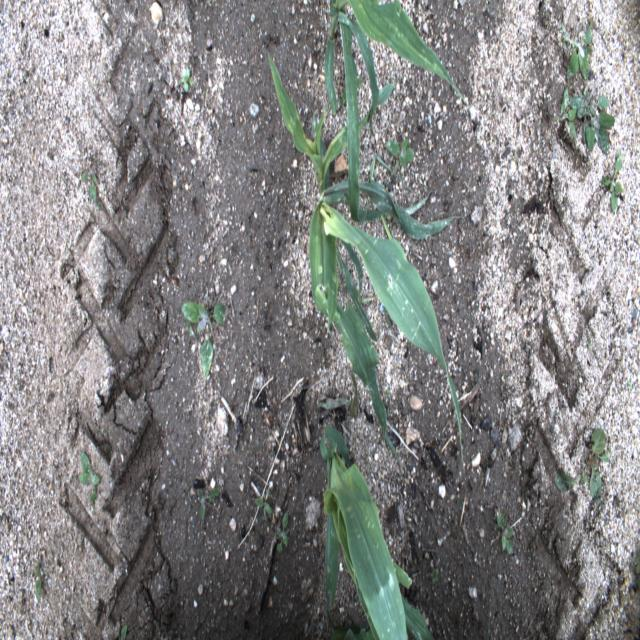crop: (268, 50, 464, 481), (324, 0, 469, 223), (320, 423, 434, 640), (329, 619, 376, 639)
weed: (181, 302, 225, 379), (569, 91, 615, 154), (562, 17, 594, 82), (585, 429, 611, 503), (370, 152, 412, 192), (601, 148, 625, 212), (77, 449, 101, 510), (552, 86, 577, 140), (385, 138, 414, 176), (497, 511, 515, 556), (554, 467, 586, 492), (196, 487, 220, 520), (254, 485, 272, 521), (276, 511, 290, 552), (81, 170, 97, 203), (34, 561, 44, 602), (182, 67, 194, 94), (184, 316, 194, 336), (119, 619, 128, 639), (383, 304, 391, 326), (384, 398, 393, 416), (636, 552, 640, 591), (431, 568, 438, 586), (586, 333, 592, 352), (514, 150, 519, 172), (386, 388, 391, 400), (627, 380, 632, 389)
